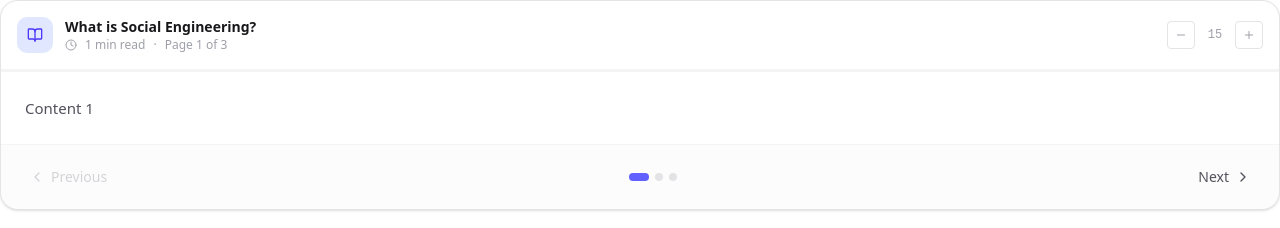
ContentReader Component › navigates to the next page when clicking the Next button
The width and height of the screenshot is (1280, 228).
Check: the heading "What is Social Engineering?" is shown, box top-left (65, 17), bottom-right (256, 37)
Click the button "Next" at (1225, 177), box top-left (1186, 161), bottom-right (1263, 193)
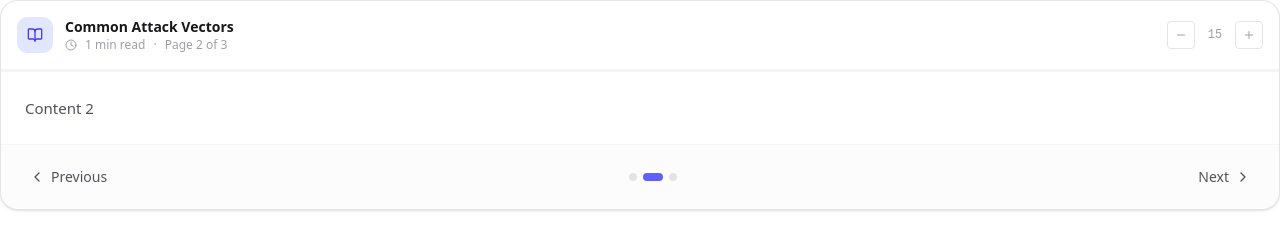
Check: the heading "Common Attack Vectors" is shown, box top-left (65, 17), bottom-right (234, 37)
Check: the text "Page 2 of 3" is shown, box top-left (165, 37), bottom-right (227, 53)
